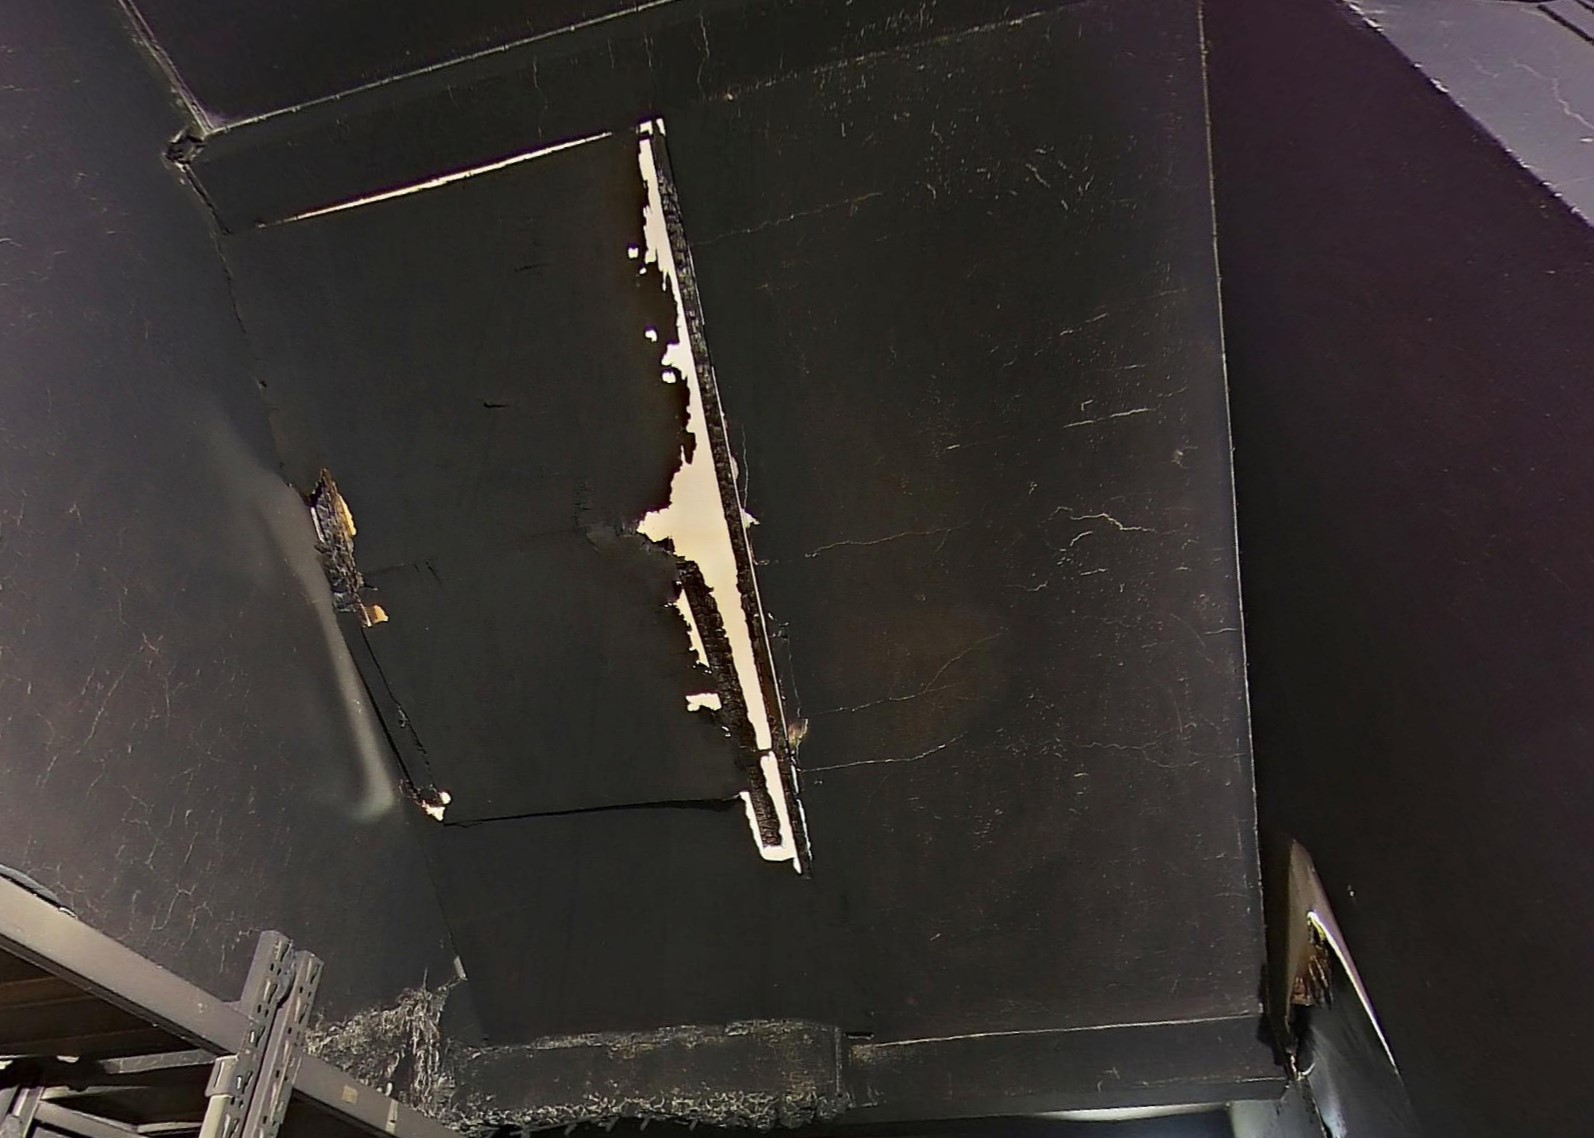Damage_level1: (245, 239, 682, 821), (459, 858, 1236, 1025), (700, 228, 1000, 491), (21, 160, 235, 527)
Damage_level3: (781, 502, 1213, 631), (99, 835, 255, 951), (809, 687, 1000, 775), (57, 632, 136, 794), (1009, 153, 1114, 211), (500, 42, 554, 151), (609, 31, 661, 111), (1051, 409, 1174, 434), (1029, 313, 1136, 339), (695, 17, 716, 90)
